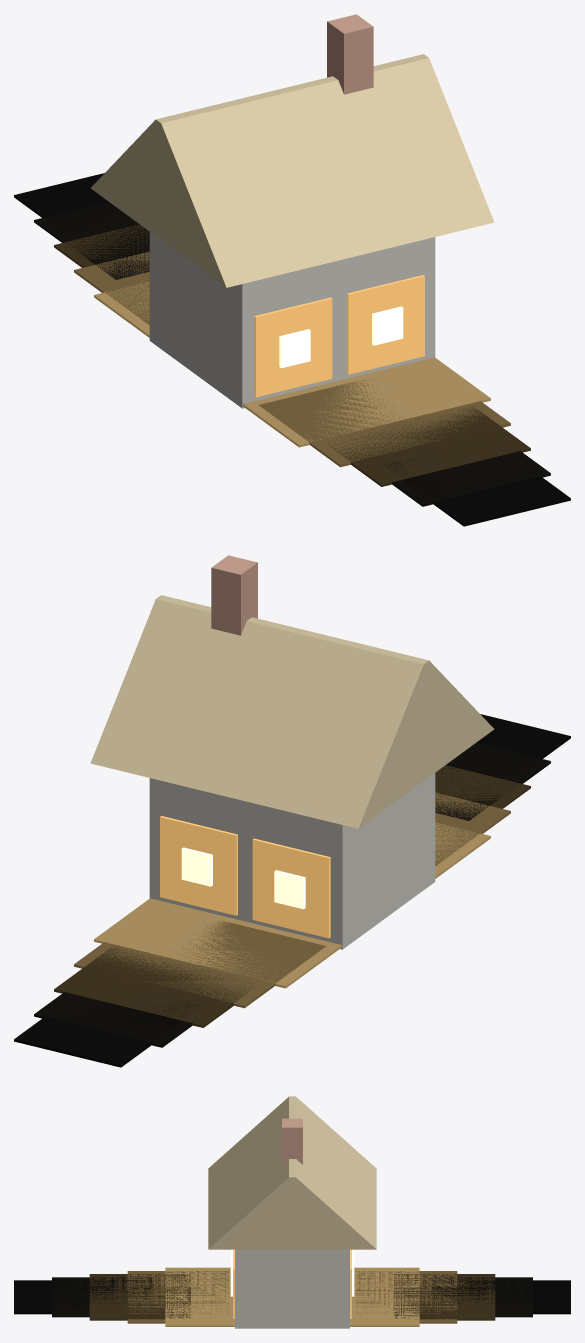
The model's file is vil_cottage_stone.glb.
3 renders of one model, top to bottom at view 1: azimuth 30°, elevation 25°; view 2: azimuth 150°, elevation 25°; view 3: azimuth 270°, elevation 25°, orthographic. The views are drawn at different scales.
Visible parts, largest first — view 1: vil_cottage_stone; view 2: vil_cottage_stone; view 3: vil_cottage_stone.
Boxes of the visible parts, <box> form: vil_cottage_stone: <box>14,14,570,526</box>; vil_cottage_stone: <box>14,555,570,1067</box>; vil_cottage_stone: <box>14,1096,570,1328</box>.
Size of the model in its own units: 0.68 by 0.7589 by 1.98.
